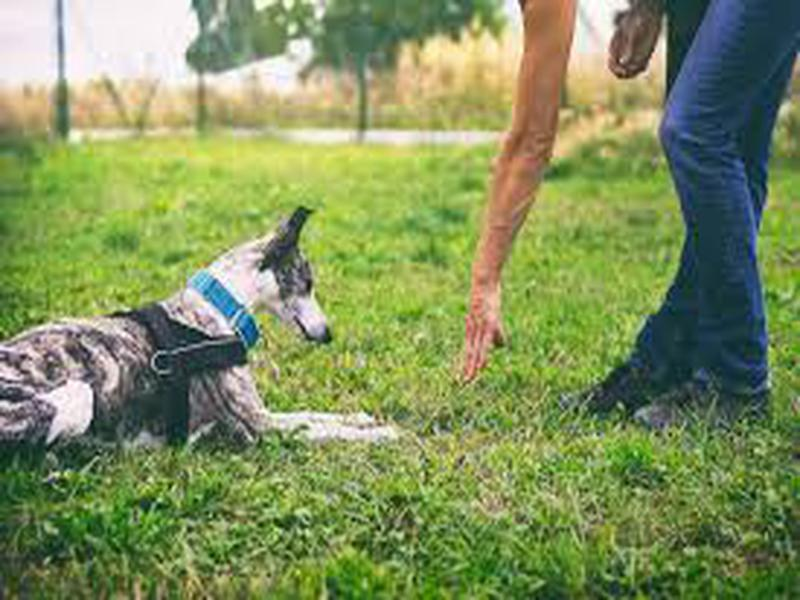dog_down: (4, 190, 403, 471)
